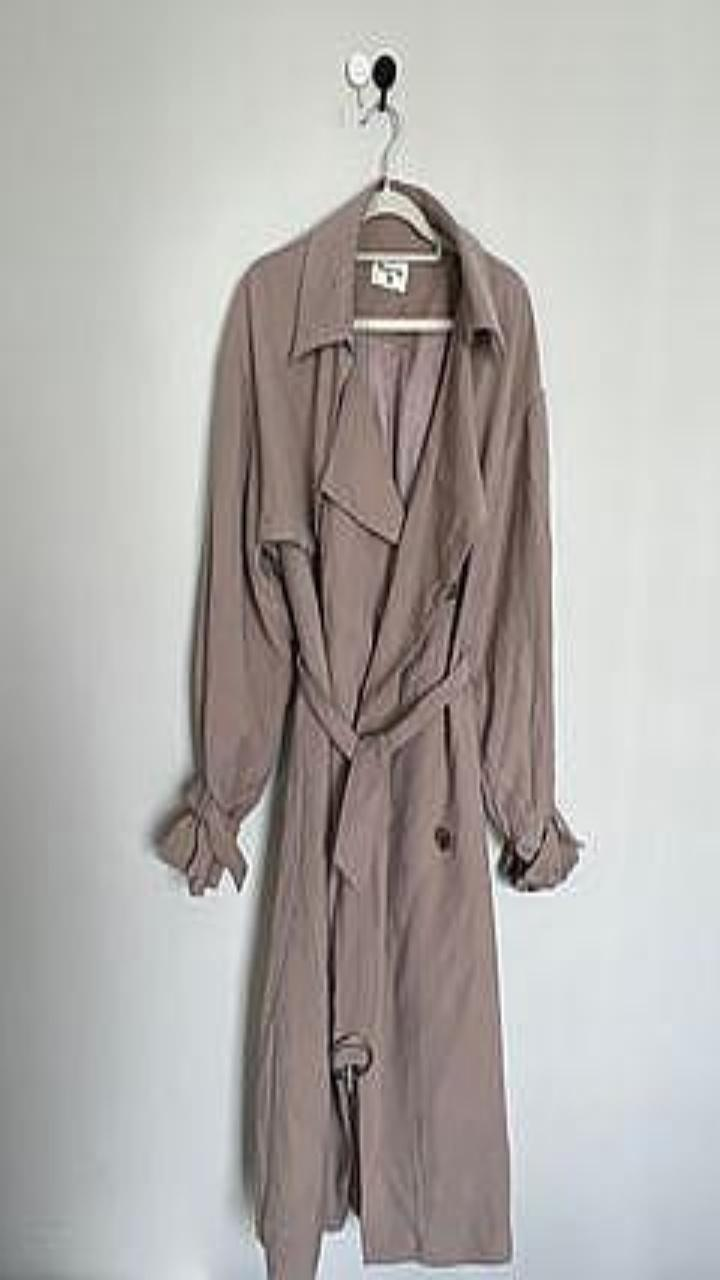Coat: (159, 179, 583, 1279)
